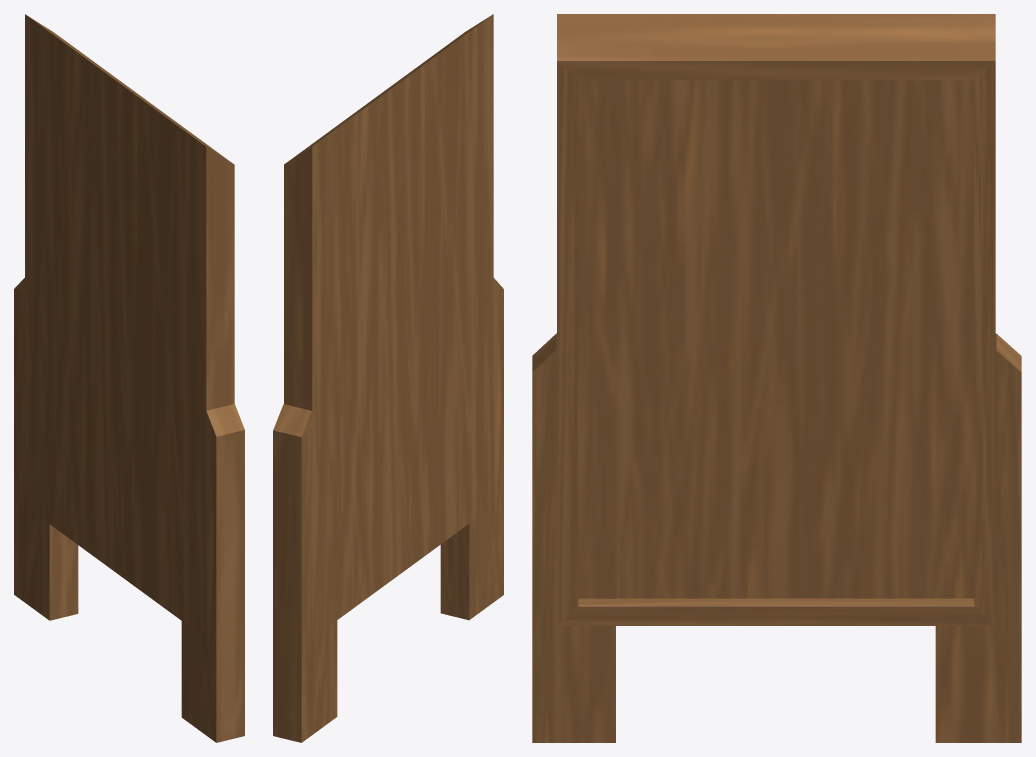
The model's file is Board 2.fbx.
3 renders of one model, left to right at view 1: azimuth 30°, elevation 25°; view 2: azimuth 150°, elevation 25°; view 3: azimuth 270°, elevation 25°, orthographic. The views are drawn at different scales.
Visible parts, largest first — view 1: Board_2; view 2: Board_2; view 3: Board_2.
Boxes of the visible parts, x1,y1,x2,y2 form: Board_2: (14, 14, 244, 742); Board_2: (273, 14, 503, 742); Board_2: (532, 14, 1021, 742).
Bounding box in the file's own units: 11.86 × 234 × 146.
Materials: 1 (1 with a texture image).
